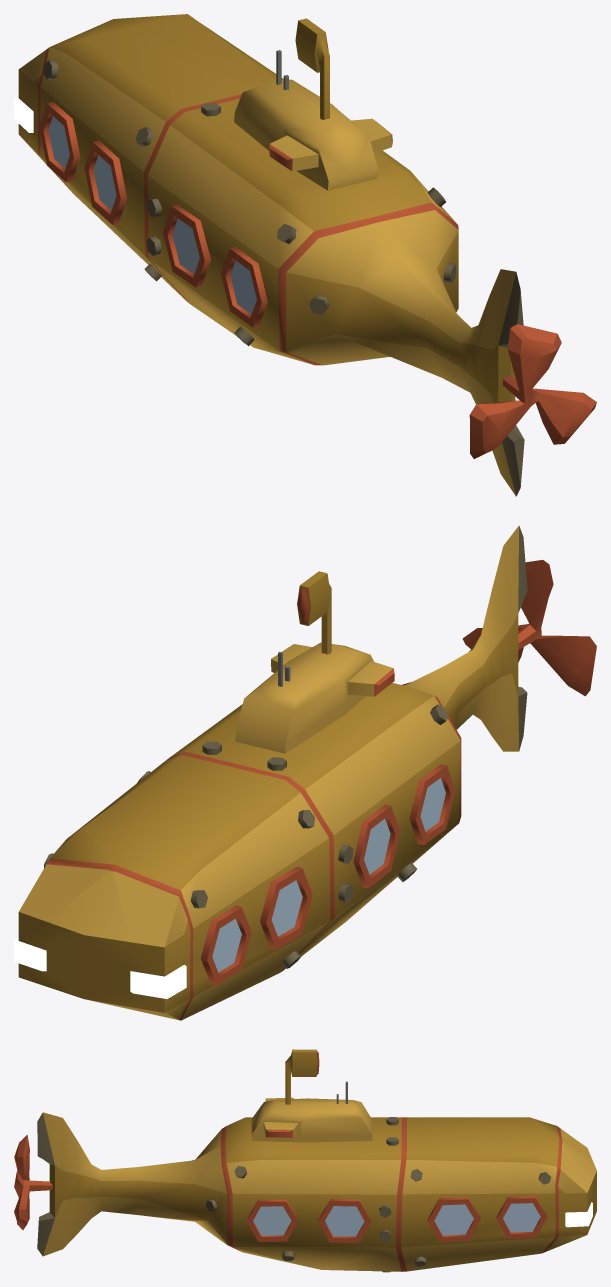
Rendered from Yellow Submarine (FBX).fbx.
3 views of the same model, one above another, from view 1: azimuth 30°, elevation 25°; view 2: azimuth 150°, elevation 25°; view 3: azimuth 270°, elevation 25° (orthographic). The views are drawn at different scales.
Visible parts, largest first — view 1: Body, Head, Windows, Rotor, Bolts, Extra; view 2: Body, Windows, Head, Rotor, Bolts, Extra; view 3: Body, Windows, Head, Rotor, Bolts, Extra.
Boxes of the visible parts, bbox=[...] form: Body: bbox=[14, 14, 524, 496]; Head: bbox=[234, 79, 392, 190]; Windows: bbox=[39, 102, 267, 327]; Rotor: bbox=[469, 324, 596, 458]; Bolts: bbox=[43, 60, 456, 346]; Extra: bbox=[276, 18, 329, 119]; Body: bbox=[14, 525, 527, 1020]; Windows: bbox=[200, 764, 455, 985]; Head: bbox=[235, 642, 394, 753]; Rotor: bbox=[462, 560, 596, 696]; Bolts: bbox=[44, 704, 448, 968]; Extra: bbox=[278, 571, 331, 686]; Body: bbox=[37, 1112, 596, 1271]; Windows: bbox=[246, 1196, 547, 1242]; Head: bbox=[251, 1097, 372, 1142]; Rotor: bbox=[14, 1134, 52, 1230]; Bolts: bbox=[205, 1117, 550, 1272]; Extra: bbox=[285, 1049, 347, 1104].
Bounding box in the file's own units: 244 × 392 × 982.
2 materials, 1 textured.
